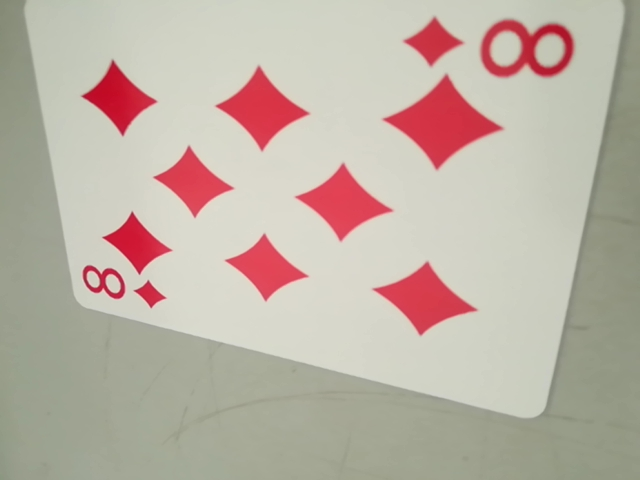fk 8: (398, 9, 578, 85), (75, 261, 165, 314)
